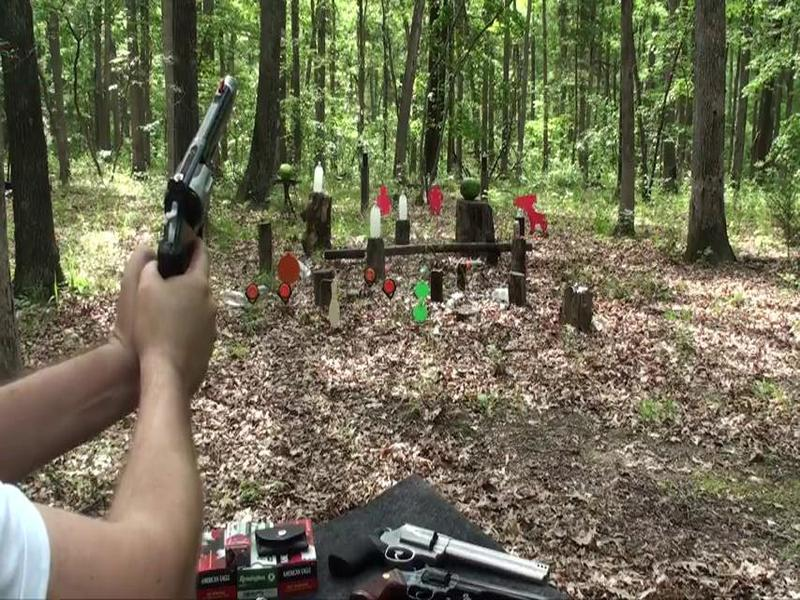Revolver: (140, 61, 260, 296)
